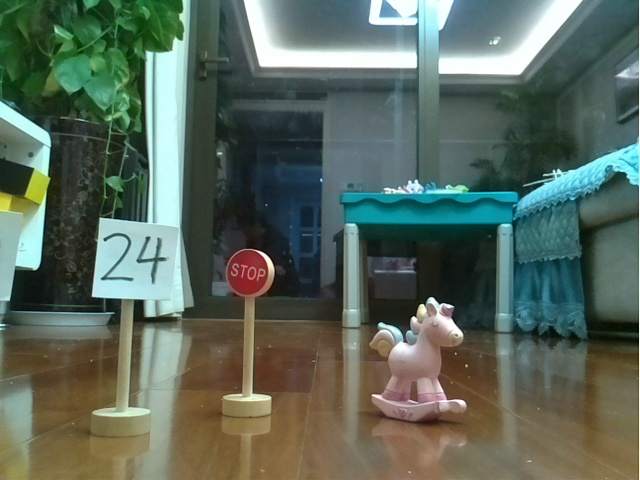Horse: (367, 292, 478, 423)
Speed Limit 24: (83, 208, 179, 446)
Stop Sign: (217, 241, 281, 423)
